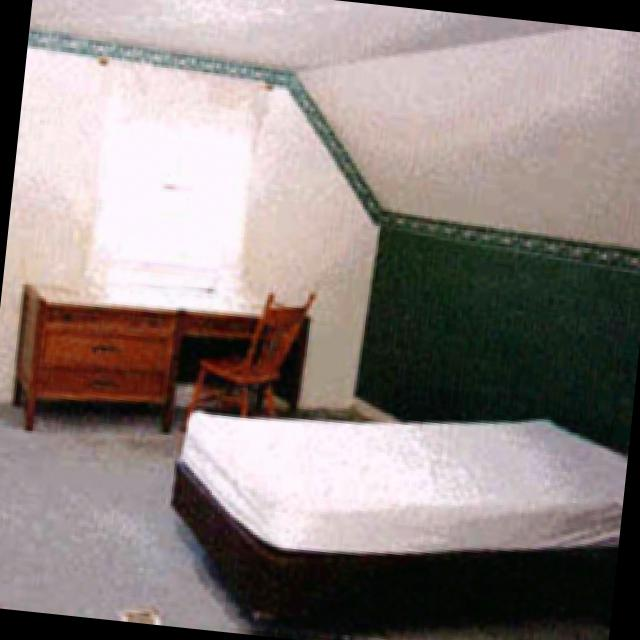2001: (84, 82, 261, 284)
bed -occluded-: (173, 405, 628, 610)
bed occluded: (178, 456, 619, 632)
ceiling beam: (32, 0, 640, 240)
chair -occluded-: (194, 287, 313, 406)
desk calendar: (13, 282, 316, 425)
mattress: (186, 407, 628, 549)
